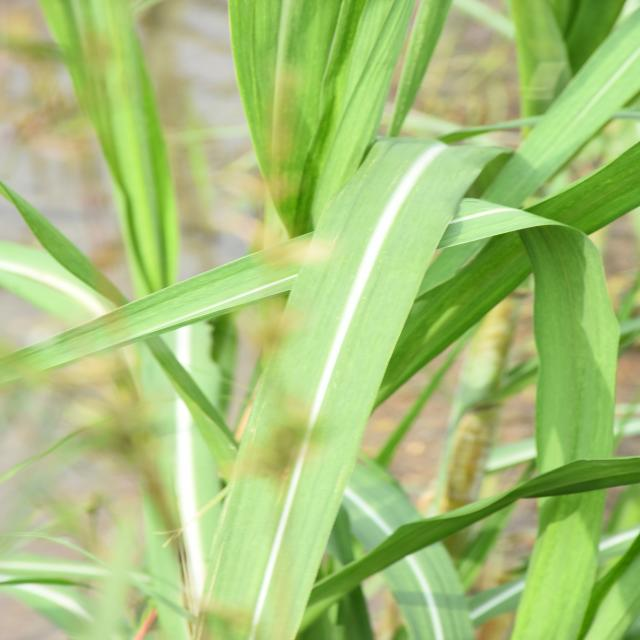Sugarcane: (179, 134, 504, 640)
